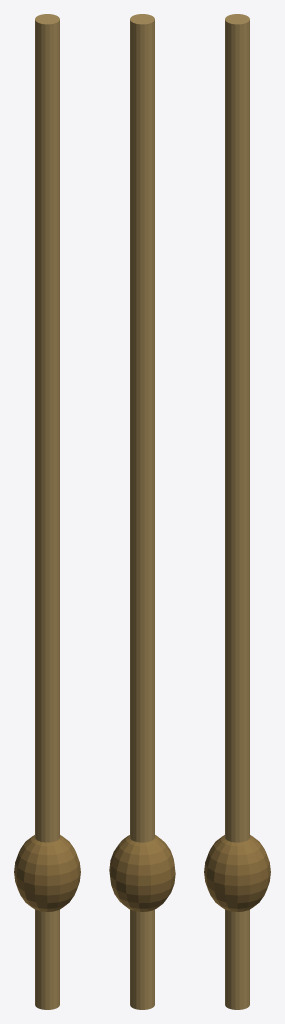
Rendered from rope.726131ce.glb.
3 renders of one model, left to right at view 1: azimuth 90°, elevation 25°; view 2: azimuth 150°, elevation 25°; view 3: azimuth 270°, elevation 25°, orthographic.
Parts seen in each view (by area): view 1: body; view 2: body; view 3: body.
Part boxes in pixels (x1,y1,x2,y2): body: (14, 14, 80, 1009); body: (109, 14, 175, 1009); body: (204, 14, 270, 1009).
Bounding box in the file's own units: 0.16 × 2.6 × 0.16.
